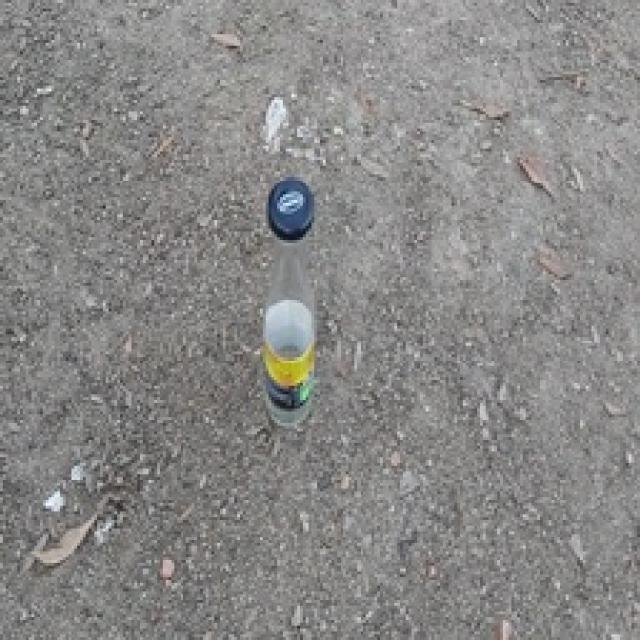Glass: (262, 235, 318, 430)
